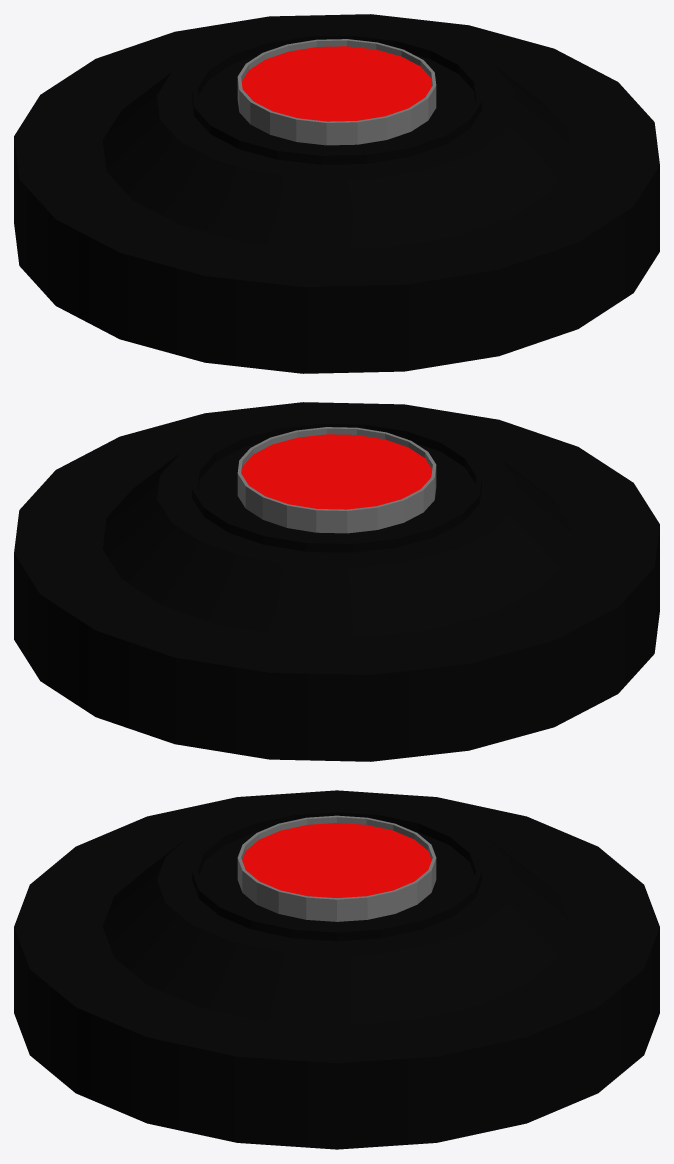
The model's file is landmind.fbx.
3 renders of one model, top to bottom at view 1: azimuth 30°, elevation 25°; view 2: azimuth 150°, elevation 25°; view 3: azimuth 270°, elevation 25°, orthographic.
Parts seen in each view (by area): view 1: pCylinder1 (×3); view 2: pCylinder1 (×3); view 3: pCylinder1 (×3).
Part boxes in pixels (x1,y1,x2,y2): pCylinder1 (×3): (14, 14, 659, 373); pCylinder1 (×3): (14, 402, 659, 761); pCylinder1 (×3): (14, 790, 659, 1149).
Size of the model in its own units: 38.85 by 10.32 by 38.85.
